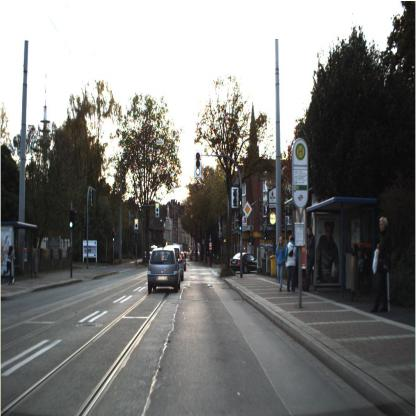other: (243, 200, 252, 219)
